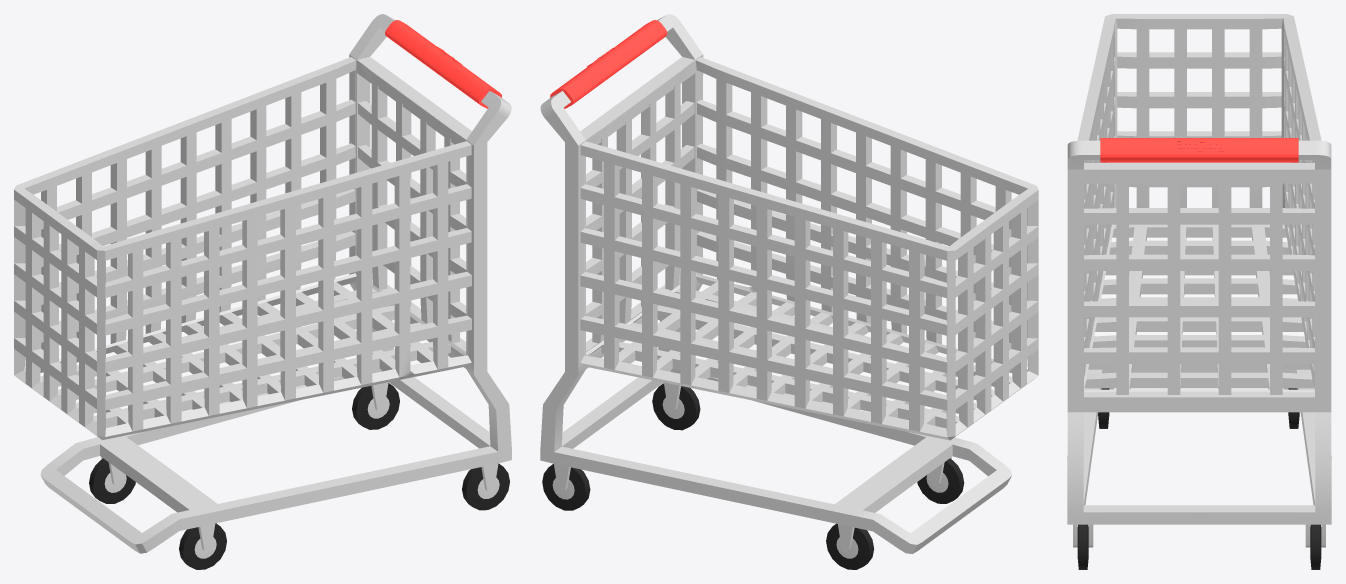
The model's file is shopping_cart.gltf.
3 views of the same model, side by side, from view 1: azimuth 30°, elevation 25°; view 2: azimuth 150°, elevation 25°; view 3: azimuth 270°, elevation 25° (orthographic). The views are drawn at different scales.
Visible parts, largest first — view 1: Cube.1019; view 2: Cube.1019; view 3: Cube.1019.
Part boxes in pixels (bbox=[...]): Cube.1019: bbox=[14, 14, 511, 569]; Cube.1019: bbox=[540, 14, 1038, 569]; Cube.1019: bbox=[1067, 14, 1331, 569].
Size of the model in its own units: 1.91 by 1.87 by 1.03.
1 material, 1 textured.
